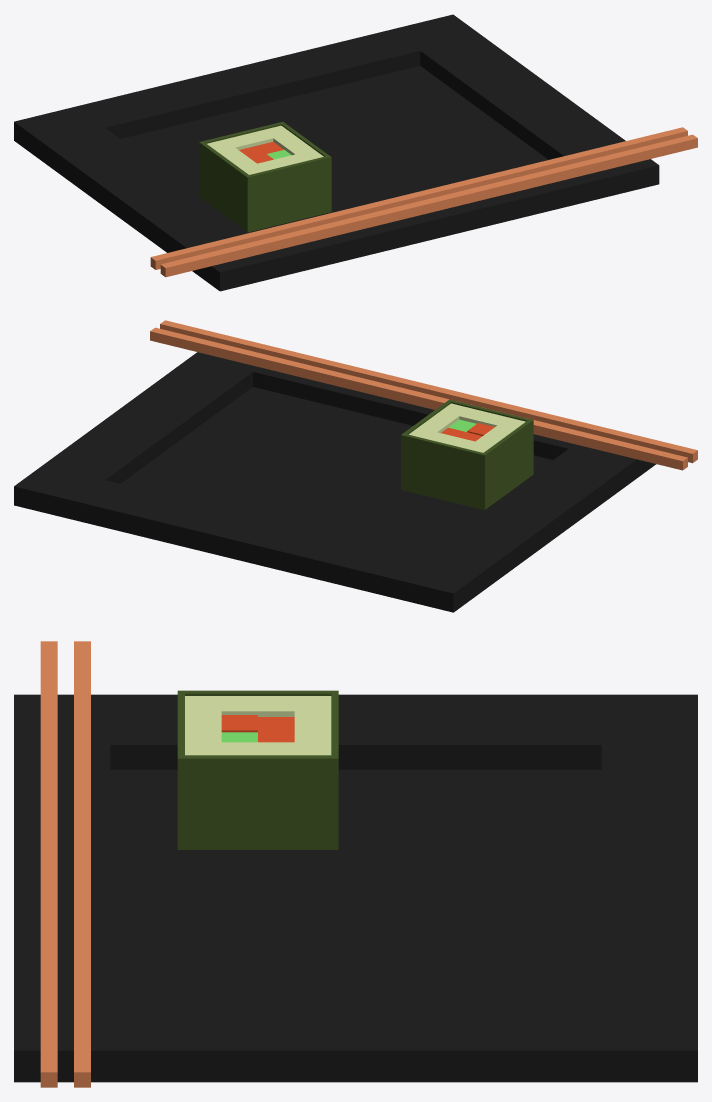
3 renders of one model, top to bottom at view 1: azimuth 30°, elevation 25°; view 2: azimuth 150°, elevation 25°; view 3: azimuth 270°, elevation 25°, orthographic. The views are drawn at different scales.
Visible parts, largest first — view 1: Plate, Sushi, Wand1, Wand2; view 2: Plate, Sushi, Wand2, Wand1; view 3: Plate, Sushi, Wand1, Wand2.
Boxes of the visible parts, x1,y1,x2,y2 form: Plate: [14, 14, 659, 291]; Sushi: [199, 121, 331, 232]; Wand1: [160, 134, 697, 277]; Wand2: [150, 127, 687, 269]; Plate: [14, 352, 656, 612]; Sushi: [401, 399, 533, 510]; Wand2: [150, 327, 687, 470]; Wand1: [160, 320, 697, 463]; Plate: [14, 694, 697, 1082]; Sushi: [177, 690, 338, 849]; Wand1: [40, 641, 57, 1087]; Wand2: [74, 641, 90, 1087].
Size of the model in its own units: 2.28 by 0.2423 by 1.53.
